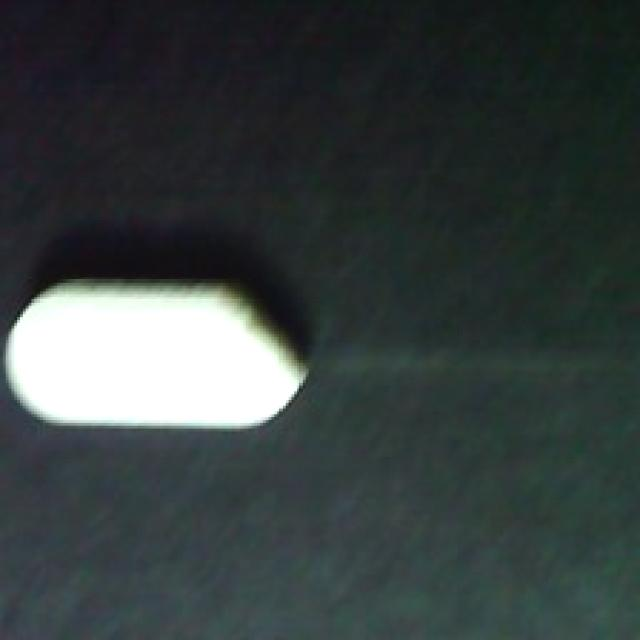defected: (0, 269, 311, 431)
